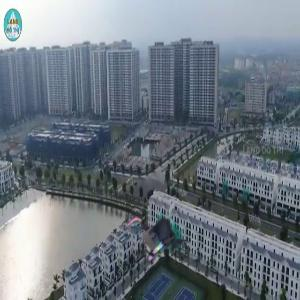drone: (124, 204, 191, 271)
